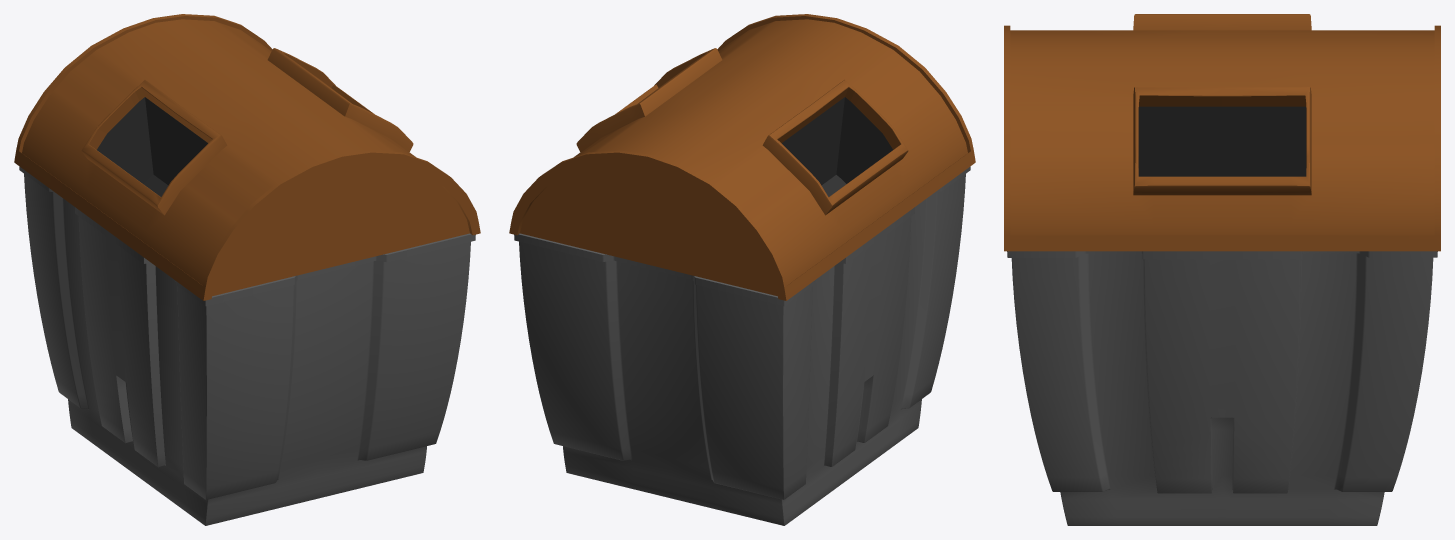
The model's file is ContenedorOrganico.fbx.
3 views of the same model, side by side, from view 1: azimuth 30°, elevation 25°; view 2: azimuth 150°, elevation 25°; view 3: azimuth 270°, elevation 25° (orthographic). The views are drawn at different scales.
Parts seen in each view (by area): view 1: TapaOrganico; view 2: TapaOrganico; view 3: TapaOrganico.
Part boxes in pixels (left/top/right/bottom): TapaOrganico: left=14, top=14, right=480, bottom=525; TapaOrganico: left=509, top=14, right=975, bottom=525; TapaOrganico: left=1004, top=14, right=1440, bottom=525.
Bounding box in the file's own units: 440 × 550 × 520.
